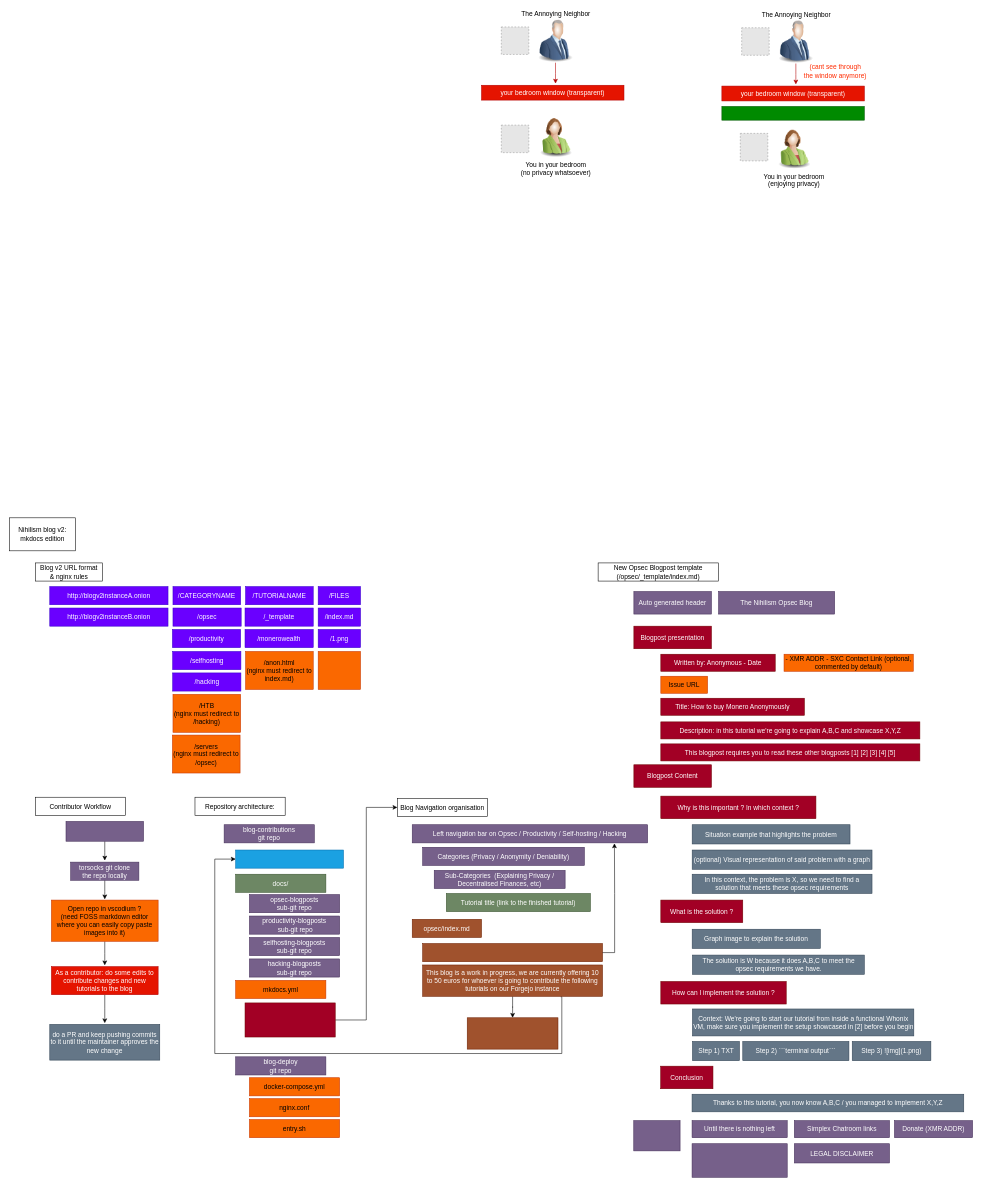
Image size: 982x1187. Some labels were removed from this diagram. Grey dashed boxes stand in for pictures. The shapes that lost their labels are listed below. From the top down, each one's centre as x and y in pixels, then its label:
point 792,113: Blinds (in your bedroom)
point 339,670: /index.html (nginx musr redirect to index.md)
point 104,831: Fork the opsec-blogposts repo on git
point 289,858: Git issues #204, #205, etc
point 512,952: check out our existing tutorials on the left navbar
point 289,1019: nav: the list of all blogposts, in all of their subcategories, etc
point 512,1033: Here's the How to contribute guide
point 656,1135: Auto generated footer
point 739,1160: Creative commons 0 (no rights reserved (public domain)
